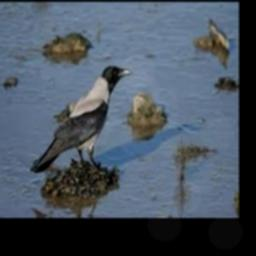Crow: (30, 65, 134, 174)
